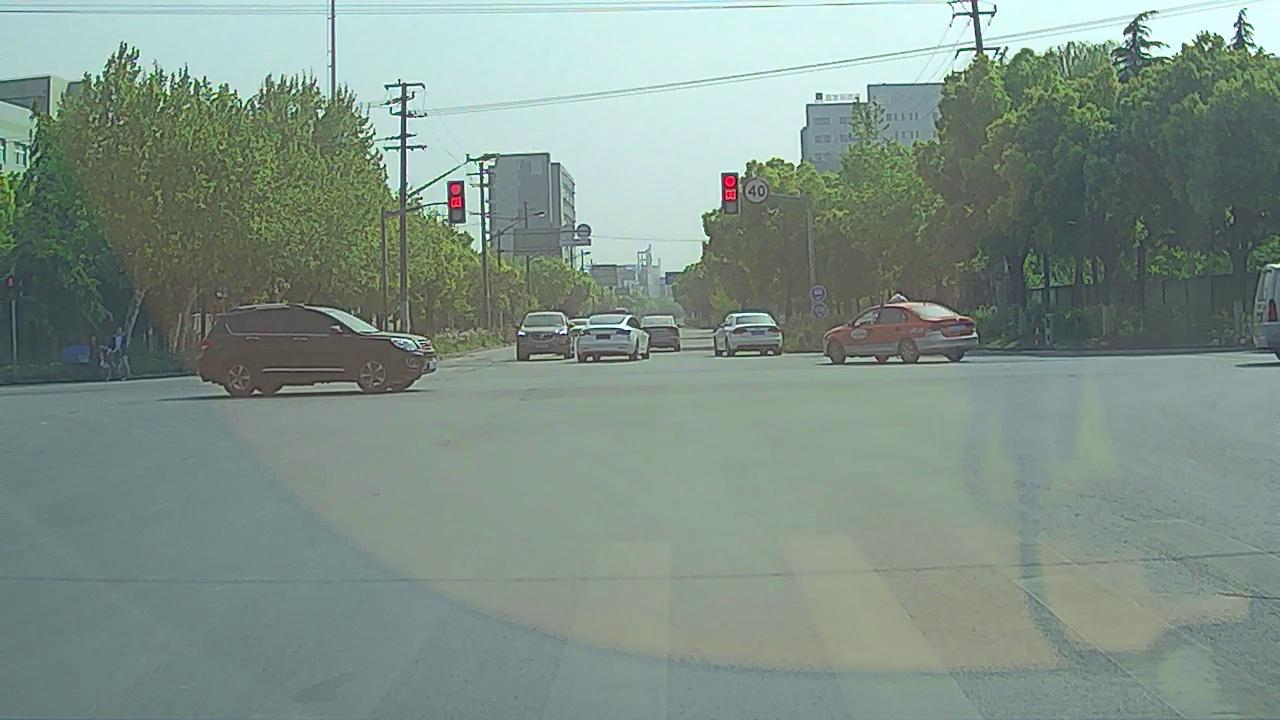traffic_light: (721, 173, 740, 214), (448, 183, 465, 222)
